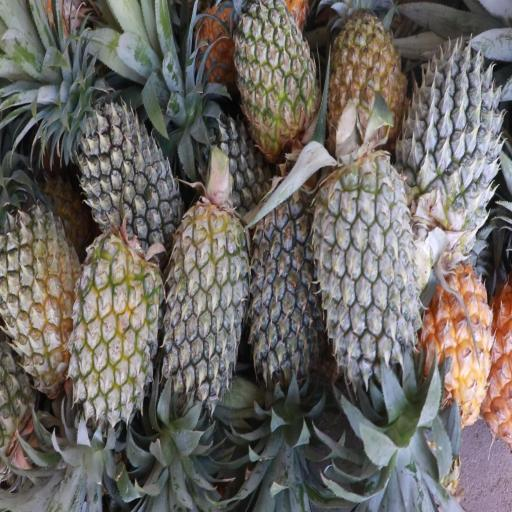------------------------------: (71, 238, 160, 426), (1, 206, 78, 386), (239, 0, 318, 152)
Pineapple - v8 v1: (420, 252, 495, 425), (330, 4, 403, 147)
